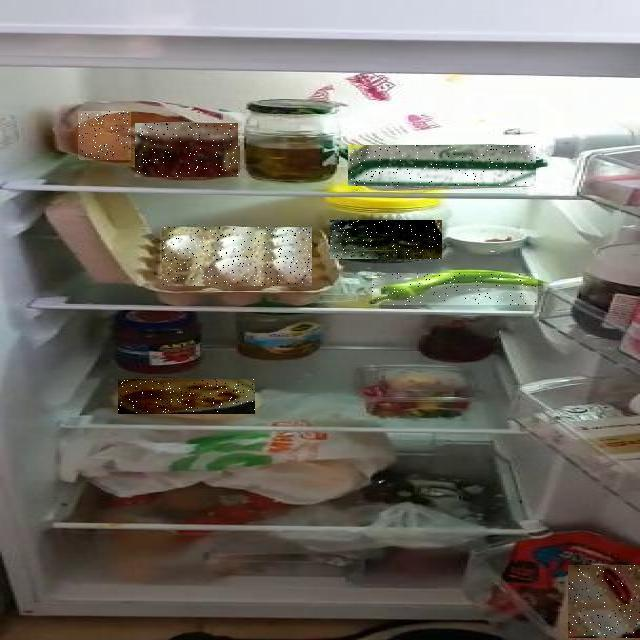Bazlama: (118, 379, 255, 414)
Bread: (78, 111, 131, 160)
Chillies: (373, 273, 539, 305)
Cream: (348, 145, 536, 186)
Eggs: (162, 227, 312, 286)
Milk: (568, 565, 640, 638)
Olives: (331, 220, 443, 259)
Tomatoes: (135, 123, 238, 177)
